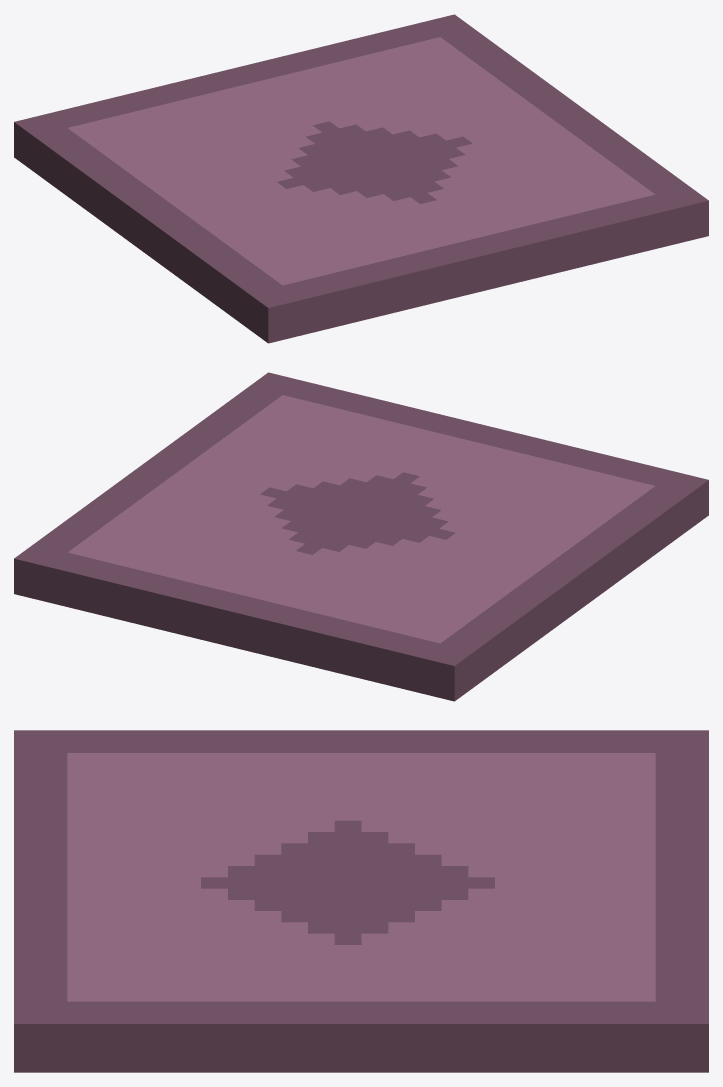
The model's file is alfombra_redonda_bordada_01.glb.
3 views of the same model, one above another, from view 1: azimuth 30°, elevation 25°; view 2: azimuth 150°, elevation 25°; view 3: azimuth 270°, elevation 25° (orthographic). The views are drawn at different scales.
Visible parts, largest first — view 1: alfombra_redonda_bordada; view 2: alfombra_redonda_bordada; view 3: alfombra_redonda_bordada.
Boxes of the visible parts, x1,y1,x2,y2 form: alfombra_redonda_bordada: (14, 14, 708, 343); alfombra_redonda_bordada: (14, 372, 708, 701); alfombra_redonda_bordada: (14, 730, 708, 1072).
Bounding box in the file's own units: 2 × 0.1538 × 2.
